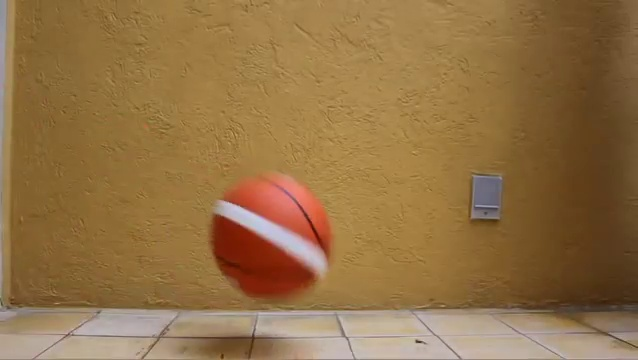ball: (207, 171, 333, 305)
